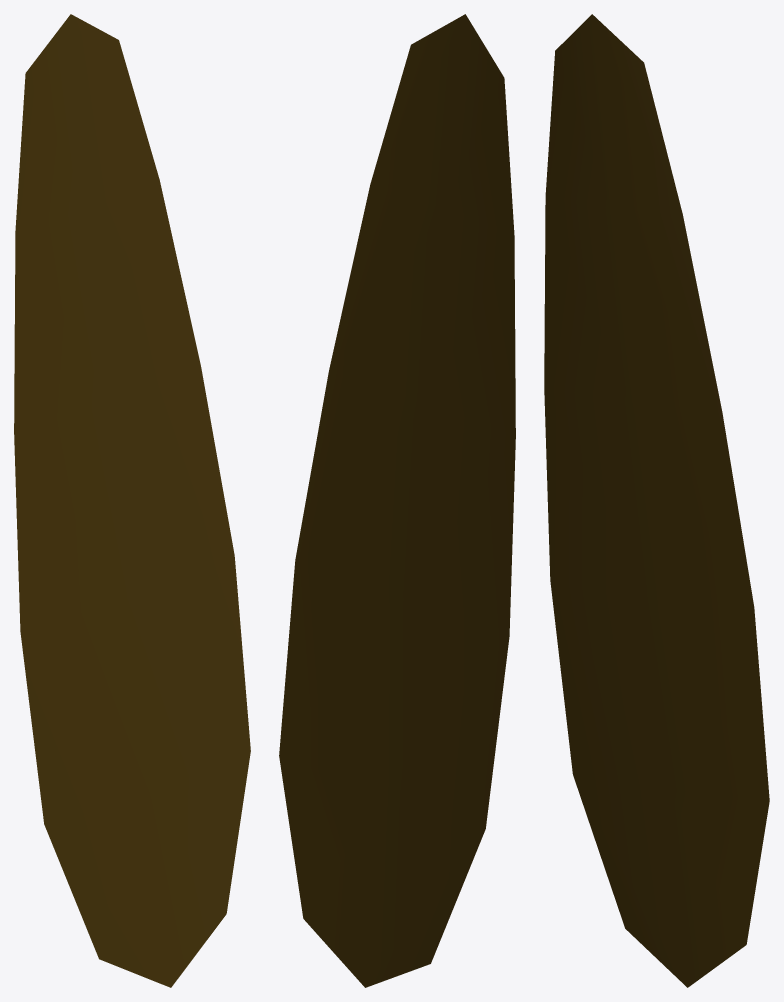
File: canary_feather_flight_primary_007.obj
The picture shows the model from 3 angles, left to right: view 1: azimuth 30°, elevation 25°; view 2: azimuth 150°, elevation 25°; view 3: azimuth 330°, elevation 25°; orthographic projection. The views are drawn at different scales.
Visible parts, largest first — view 1: feather_flight_primary_007; view 2: feather_flight_primary_007; view 3: feather_flight_primary_007.
Part boxes in pixels (left/top/right/bottom): feather_flight_primary_007: left=14, top=14, right=250, bottom=987; feather_flight_primary_007: left=279, top=14, right=515, bottom=987; feather_flight_primary_007: left=544, top=14, right=769, bottom=987.
Size of the model in its own units: 0.00664 by 0.0268 by 0.000155.
